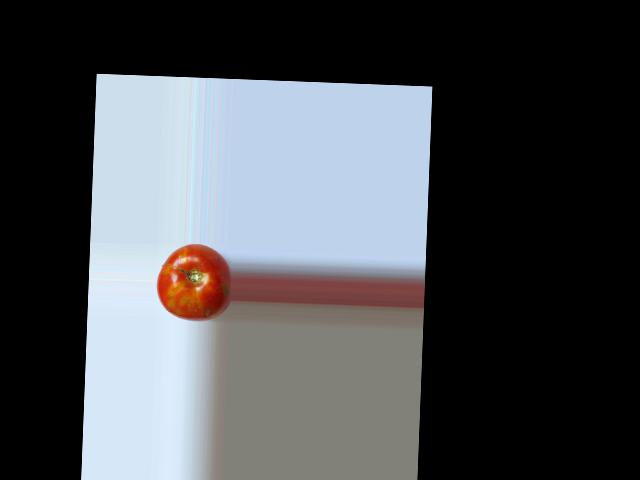tomato: (156, 242, 233, 322)
